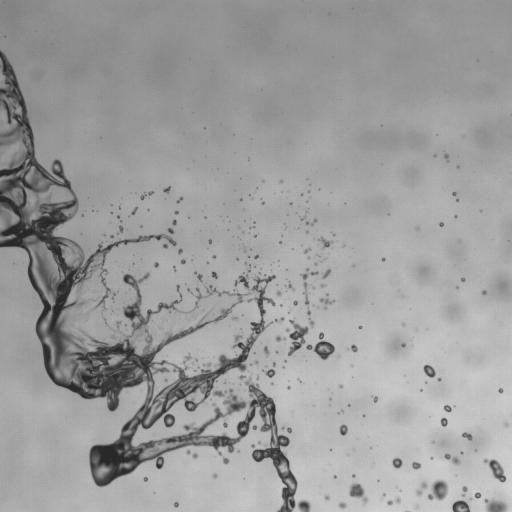droplet: (306, 332, 334, 359), (427, 480, 448, 500), (349, 483, 367, 504), (319, 293, 334, 309), (452, 500, 470, 511), (262, 362, 275, 377), (318, 237, 332, 248), (416, 481, 427, 495), (423, 365, 435, 377), (392, 458, 402, 468), (339, 424, 347, 435), (305, 218, 317, 225), (462, 432, 472, 440), (322, 269, 330, 278), (263, 346, 270, 356), (443, 405, 452, 412), (412, 462, 421, 469), (275, 335, 285, 341), (195, 273, 202, 281), (286, 282, 293, 290), (349, 344, 357, 351), (117, 225, 123, 234), (441, 417, 447, 426), (462, 486, 467, 496), (223, 456, 229, 464), (338, 502, 346, 508), (474, 492, 481, 498), (164, 187, 170, 193), (211, 272, 217, 278), (372, 396, 378, 402), (168, 228, 173, 234), (304, 247, 310, 252), (276, 290, 281, 296), (395, 497, 400, 503), (444, 153, 448, 160), (154, 262, 159, 267), (498, 388, 503, 393), (286, 427, 291, 432), (324, 495, 329, 500), (387, 500, 392, 505), (307, 308, 310, 315), (301, 215, 305, 220), (172, 220, 176, 225), (178, 249, 182, 254), (180, 259, 185, 263), (293, 300, 297, 305), (504, 422, 508, 427), (174, 502, 178, 507), (174, 210, 178, 214), (439, 222, 443, 226), (163, 244, 167, 248), (461, 277, 465, 281), (482, 290, 486, 294), (358, 325, 362, 329), (254, 360, 258, 364), (437, 377, 441, 381), (213, 473, 217, 477), (143, 477, 147, 481), (254, 255, 258, 258), (382, 257, 385, 261), (111, 335, 115, 338), (402, 343, 405, 347), (194, 358, 197, 362), (256, 375, 259, 379), (453, 192, 456, 195), (321, 284, 324, 287), (188, 289, 191, 292), (233, 317, 236, 320), (298, 379, 301, 382), (339, 384, 342, 387), (287, 386, 290, 389), (382, 493, 385, 496), (209, 239, 211, 243), (262, 201, 264, 204), (454, 215, 457, 217), (111, 235, 113, 238), (173, 267, 176, 269), (275, 351, 278, 353), (164, 379, 167, 381), (258, 441, 260, 444), (332, 233, 334, 235), (254, 235, 256, 237), (243, 248, 245, 250), (213, 255, 215, 257), (312, 286, 314, 288), (402, 323, 404, 325), (334, 475, 336, 477), (415, 506, 417, 508)
ligament: (0, 51, 310, 511), (286, 319, 314, 355), (301, 268, 317, 306), (483, 458, 506, 482), (484, 498, 507, 511), (444, 453, 460, 465), (158, 317, 166, 331), (140, 191, 153, 199), (102, 316, 109, 327), (177, 196, 183, 203), (131, 207, 137, 214)
